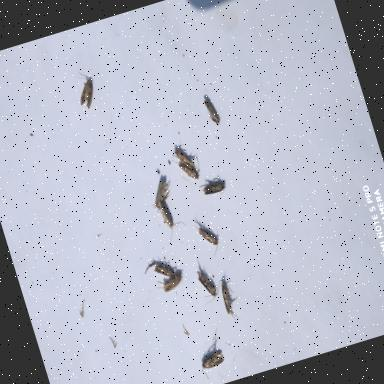pbw: (68, 68, 100, 110), (193, 262, 222, 305), (154, 266, 189, 298), (217, 278, 243, 320), (154, 196, 182, 234), (196, 92, 224, 130), (148, 174, 174, 210), (172, 152, 201, 184), (148, 253, 178, 283), (196, 346, 228, 374), (170, 140, 196, 172), (194, 220, 221, 249), (196, 174, 228, 198)
